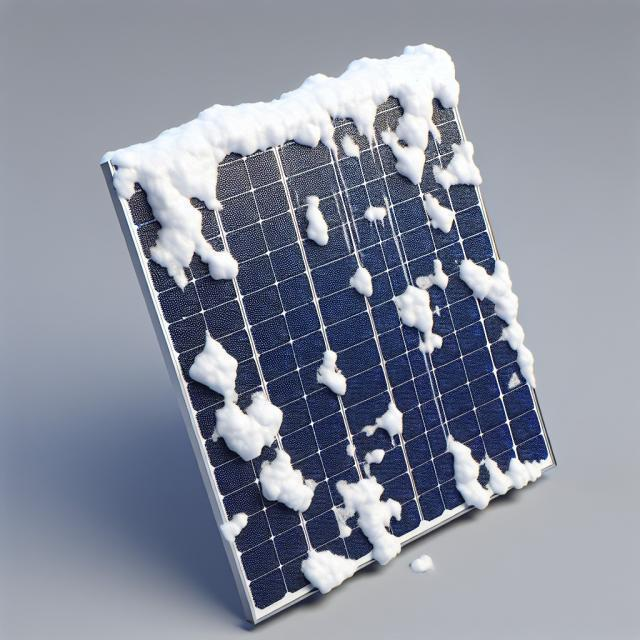Anomaly Solar Panel: (106, 59, 574, 628)
Snow: (93, 11, 495, 311), (154, 327, 296, 474), (453, 241, 565, 395), (428, 431, 545, 525), (332, 447, 402, 565), (388, 254, 449, 354), (248, 442, 328, 518), (295, 544, 359, 599), (358, 395, 414, 452), (428, 137, 483, 191), (410, 189, 461, 237), (293, 190, 332, 252), (309, 345, 349, 399), (344, 263, 382, 299), (216, 507, 252, 543), (360, 199, 388, 226), (341, 131, 360, 160), (503, 371, 523, 392), (341, 439, 359, 457), (435, 303, 440, 317)
